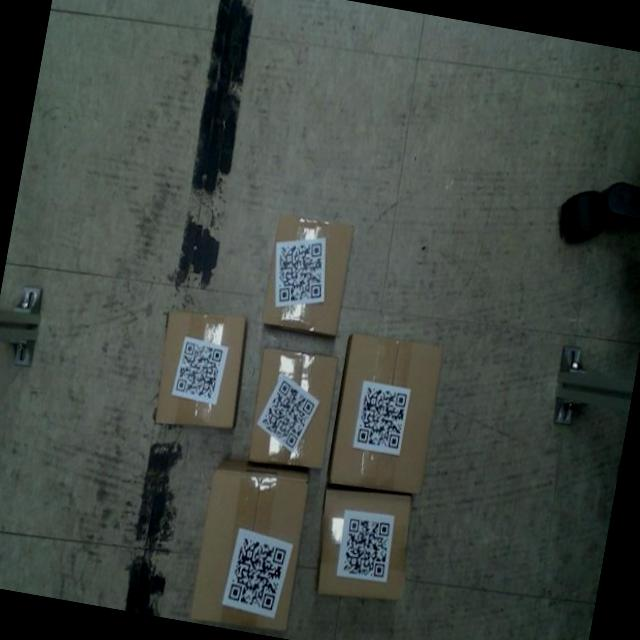box: (184, 453, 316, 639), (322, 329, 447, 500), (306, 481, 420, 610), (148, 301, 254, 437), (243, 342, 341, 477), (260, 210, 356, 337)
